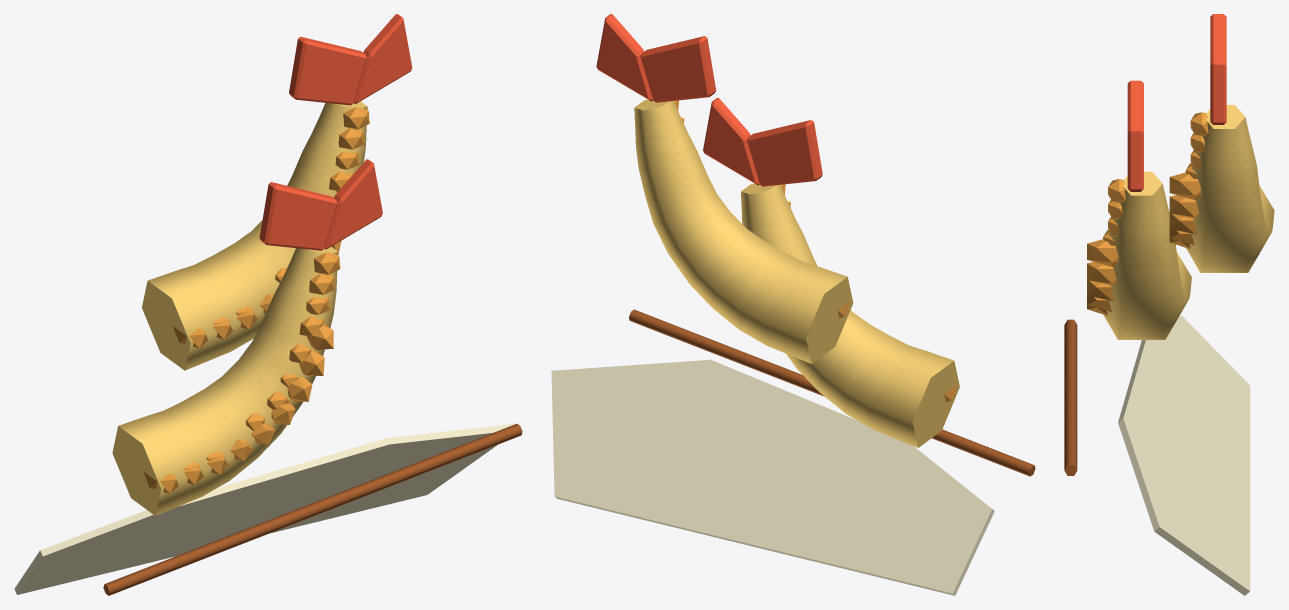
The model's file is tempura.obj.
3 views of the same model, side by side, from view 1: azimuth 30°, elevation 25°; view 2: azimuth 150°, elevation 25°; view 3: azimuth 270°, elevation 25° (orthographic). The views are drawn at different scales.
Visible parts, largest first — view 1: C_FoldedPaper.001_tempura_paper, A_Shrimp0_Shrimp.001_tempura_batter, A_Shrimp1_Shrimp.001_tempura_batter, D_Chopsticks.001_tempura_chopstick, E_ReadableBatterCrumbs.001_tempura_crisp_crumb, B_Tail1_-1.001_tempura_shrimp_tail, B_Tail0_-1.001_tempura_shrimp_tail, A_Shrimp0_ArrayCrumbs.001_tempura_crisp_crumb, B_Tail0_1.001_tempura_shrimp_tail, B_Tail1_1.001_tempura_shrimp_tail, A_Shrimp1_ArrayCrumbs.001_tempura_crisp_crumb; view 2: C_FoldedPaper.001_tempura_paper, A_Shrimp1_Shrimp.001_tempura_batter, A_Shrimp0_Shrimp.001_tempura_batter, B_Tail0_-1.001_tempura_shrimp_tail, D_Chopsticks.001_tempura_chopstick, B_Tail1_-1.001_tempura_shrimp_tail, B_Tail0_1.001_tempura_shrimp_tail, B_Tail1_1.001_tempura_shrimp_tail; view 3: C_FoldedPaper.001_tempura_paper, A_Shrimp1_Shrimp.001_tempura_batter, A_Shrimp0_Shrimp.001_tempura_batter, D_Chopsticks.001_tempura_chopstick, A_Shrimp1_ArrayCrumbs.001_tempura_crisp_crumb, A_Shrimp0_ArrayCrumbs.001_tempura_crisp_crumb, E_ReadableBatterCrumbs.001_tempura_crisp_crumb, B_Tail1_1.001_tempura_shrimp_tail, B_Tail0_1.001_tempura_shrimp_tail, B_Tail0_-1.001_tempura_shrimp_tail, B_Tail1_-1.001_tempura_shrimp_tail.
Boxes of the visible parts, left/top/right/bottom form: C_FoldedPaper.001_tempura_paper: left=14, top=423, right=515, bottom=594; A_Shrimp0_Shrimp.001_tempura_batter: left=112, top=246, right=338, bottom=515; A_Shrimp1_Shrimp.001_tempura_batter: left=142, top=101, right=367, bottom=370; D_Chopsticks.001_tempura_chopstick: left=103, top=423, right=522, bottom=595; E_ReadableBatterCrumbs.001_tempura_crisp_crumb: left=152, top=107, right=369, bottom=488; B_Tail1_-1.001_tempura_shrimp_tail: left=289, top=36, right=366, bottom=105; B_Tail0_-1.001_tempura_shrimp_tail: left=259, top=182, right=337, bottom=250; A_Shrimp0_ArrayCrumbs.001_tempura_crisp_crumb: left=143, top=324, right=333, bottom=493; B_Tail0_1.001_tempura_shrimp_tail: left=324, top=159, right=382, bottom=249; B_Tail1_1.001_tempura_shrimp_tail: left=354, top=14, right=412, bottom=103; A_Shrimp1_ArrayCrumbs.001_tempura_crisp_crumb: left=172, top=190, right=341, bottom=348; C_FoldedPaper.001_tempura_paper: left=551, top=359, right=994, bottom=595; A_Shrimp1_Shrimp.001_tempura_batter: left=634, top=99, right=853, bottom=363; A_Shrimp0_Shrimp.001_tempura_batter: left=741, top=183, right=959, bottom=447; B_Tail0_-1.001_tempura_shrimp_tail: left=747, top=120, right=822, bottom=186; D_Chopsticks.001_tempura_chopstick: left=629, top=309, right=1035, bottom=476; B_Tail1_-1.001_tempura_shrimp_tail: left=640, top=36, right=716, bottom=102; B_Tail0_1.001_tempura_shrimp_tail: left=703, top=98, right=759, bottom=185; B_Tail1_1.001_tempura_shrimp_tail: left=596, top=14, right=652, bottom=101; C_FoldedPaper.001_tempura_paper: left=1118, top=315, right=1250, bottom=595; A_Shrimp1_Shrimp.001_tempura_batter: left=1186, top=105, right=1274, bottom=272; A_Shrimp0_Shrimp.001_tempura_batter: left=1103, top=171, right=1191, bottom=339; D_Chopsticks.001_tempura_chopstick: left=1064, top=319, right=1077, bottom=475; A_Shrimp1_ArrayCrumbs.001_tempura_crisp_crumb: left=1169, top=172, right=1201, bottom=248; A_Shrimp0_ArrayCrumbs.001_tempura_crisp_crumb: left=1087, top=239, right=1118, bottom=315; E_ReadableBatterCrumbs.001_tempura_crisp_crumb: left=1103, top=112, right=1208, bottom=245; B_Tail1_1.001_tempura_shrimp_tail: left=1210, top=62, right=1226, bottom=124; B_Tail0_1.001_tempura_shrimp_tail: left=1127, top=129, right=1143, bottom=191; B_Tail0_-1.001_tempura_shrimp_tail: left=1127, top=80, right=1143, bottom=131; B_Tail1_-1.001_tempura_shrimp_tail: left=1210, top=14, right=1226, bottom=65.
Size of the model in its own units: 1.87 by 1.92 by 0.712.
